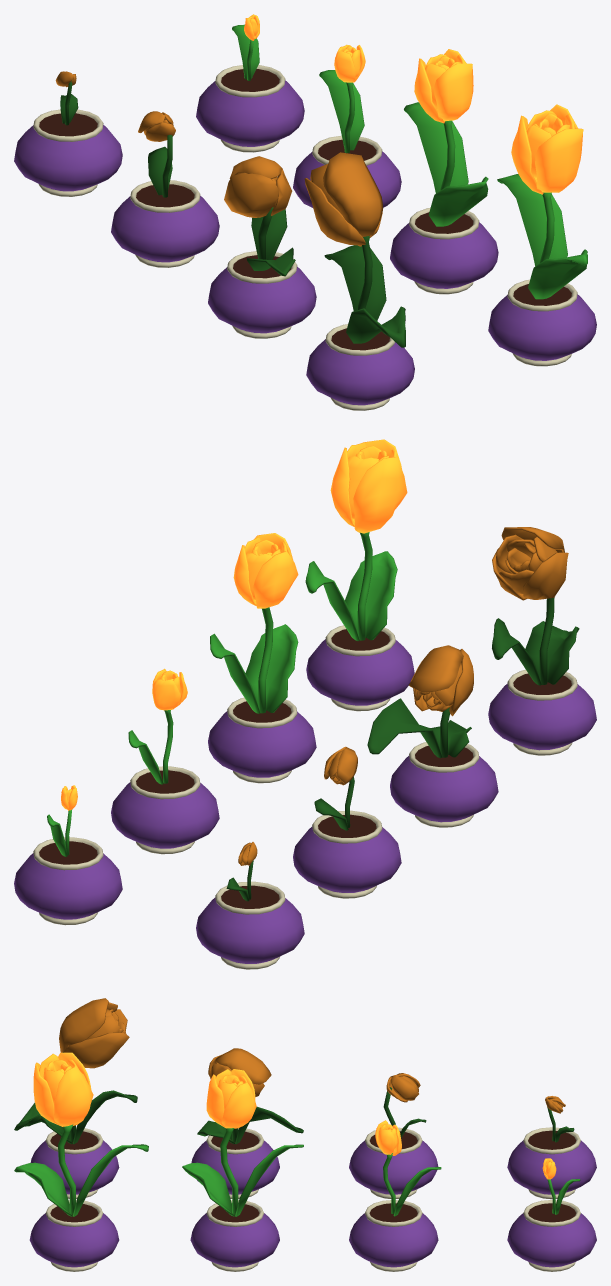
File: tulips.fbx
3 views of the same model, one above another, from view 1: azimuth 30°, elevation 25°; view 2: azimuth 150°, elevation 25°; view 3: azimuth 270°, elevation 25° (orthographic). The views are drawn at different scales.
Parts seen in each view (by area): view 1: Cylinder.006, Cylinder.018, Cylinder.016, Cylinder.003, Cylinder.008, Cylinder.013, Cylinder.020, Tulip.006, Tulip.002, Tulip.001, Tulip.005, Plane.001 (+24 smaller); view 2: Cylinder.001, Cylinder.006, Cylinder.018, Cylinder.016, Cylinder.008, Cylinder.003, Cylinder.020, Cylinder.013, Tulip.002, Tulip.006, Tulip.001, Tulip.005 (+21 smaller); view 3: Cylinder.006, Cylinder.001, Cylinder.008, Cylinder.003, Cylinder.018, Tulip.002, Tulip.006, Cylinder.016, Cylinder.020, Cylinder.013, Tulip.001, Tulip.005 (+20 smaller).
Boxes of the visible parts, x1,y1,x2,y2 form: Cylinder.006: [196, 65, 304, 152]; Cylinder.018: [14, 109, 122, 196]; Cylinder.016: [111, 180, 219, 267]; Cylinder.003: [390, 207, 498, 294]; Cylinder.008: [488, 279, 596, 366]; Cylinder.013: [208, 251, 316, 338]; Cylinder.020: [306, 324, 414, 410]; Tulip.006: [304, 152, 383, 246]; Tulip.002: [511, 104, 583, 194]; Tulip.001: [414, 49, 473, 123]; Tulip.005: [224, 156, 292, 217]; Plane.001: [497, 174, 567, 266]; Cylinder.001: [111, 766, 219, 854]; Cylinder.006: [14, 837, 122, 925]; Cylinder.018: [196, 881, 304, 969]; Cylinder.016: [293, 810, 401, 898]; Cylinder.008: [306, 625, 414, 711]; Cylinder.003: [208, 697, 316, 783]; Cylinder.020: [488, 669, 596, 755]; Cylinder.013: [390, 742, 498, 827]; Tulip.002: [330, 439, 407, 533]; Tulip.006: [492, 527, 568, 600]; Tulip.001: [233, 533, 298, 608]; Tulip.005: [409, 645, 473, 716]; Cylinder.006: [507, 1200, 596, 1271]; Cylinder.001: [349, 1200, 438, 1271]; Cylinder.008: [29, 1200, 119, 1271]; Cylinder.003: [190, 1200, 279, 1271]; Cylinder.018: [507, 1127, 596, 1199]; Tulip.002: [33, 1052, 93, 1126]; Tulip.006: [59, 998, 129, 1068]; Cylinder.016: [349, 1127, 438, 1198]; Cylinder.020: [30, 1127, 119, 1199]; Cylinder.013: [191, 1128, 279, 1198]; Tulip.001: [206, 1069, 256, 1128]; Tulip.005: [208, 1048, 271, 1096].
Size of the model in its own units: 139 by 118 by 310.
